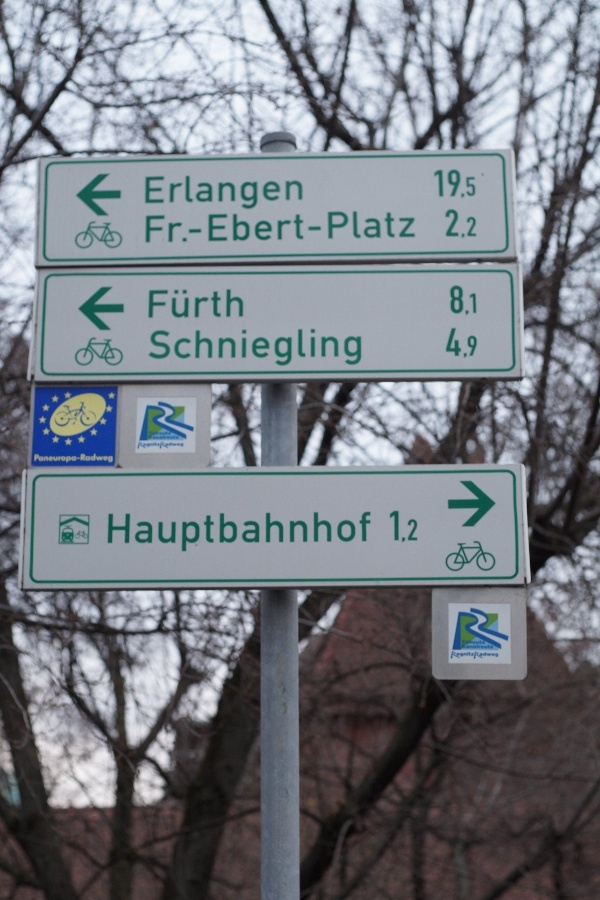text: (113, 511, 128, 555), (129, 511, 144, 555), (145, 511, 160, 555), (161, 511, 176, 555), (177, 511, 192, 555), (193, 511, 208, 555), (209, 511, 224, 555), (225, 511, 240, 555), (241, 511, 256, 555), (257, 511, 272, 555), (273, 511, 288, 555), (289, 511, 304, 555), (305, 511, 320, 555), (321, 511, 336, 555), (337, 511, 352, 555), (353, 511, 368, 555), (161, 328, 176, 367), (177, 328, 192, 367), (193, 328, 208, 367), (209, 328, 224, 367), (225, 328, 240, 367), (241, 328, 256, 367), (257, 328, 272, 367), (273, 328, 288, 367), (289, 328, 304, 367), (305, 328, 320, 367), (321, 328, 336, 367), (337, 328, 352, 367), (401, 508, 416, 544), (161, 175, 176, 210), (177, 175, 192, 210), (193, 175, 208, 210), (209, 175, 224, 210), (225, 175, 240, 210), (241, 175, 256, 210), (257, 175, 272, 210), (273, 175, 288, 210), (146, 175, 160, 210), (289, 175, 303, 210), (449, 168, 464, 200), (449, 207, 464, 239), (465, 328, 480, 359), (209, 214, 224, 244), (225, 214, 240, 244), (241, 214, 256, 244), (257, 214, 272, 244), (273, 214, 288, 244), (161, 289, 176, 319), (177, 289, 192, 319), (193, 289, 208, 319), (209, 289, 224, 319), (225, 289, 240, 319), (434, 168, 448, 200), (161, 215, 176, 244), (177, 215, 192, 244), (337, 211, 352, 240), (353, 211, 368, 240), (369, 211, 384, 240), (385, 211, 400, 240), (401, 211, 416, 240), (450, 284, 464, 315), (146, 215, 160, 244), (389, 508, 400, 544), (465, 207, 477, 239), (452, 328, 464, 359), (465, 168, 476, 200), (151, 328, 160, 367), (353, 328, 362, 367), (465, 284, 476, 315), (289, 214, 300, 244), (149, 289, 160, 319), (193, 215, 202, 244), (328, 211, 336, 240), (49, 453, 64, 464), (65, 453, 80, 464), (81, 453, 96, 464), (97, 453, 112, 464), (465, 651, 480, 661), (481, 651, 496, 661), (35, 453, 48, 464), (109, 511, 112, 555), (452, 651, 464, 661), (369, 511, 371, 555), (446, 207, 448, 239), (241, 289, 243, 319), (417, 508, 418, 544), (497, 651, 500, 661), (113, 453, 114, 464)
